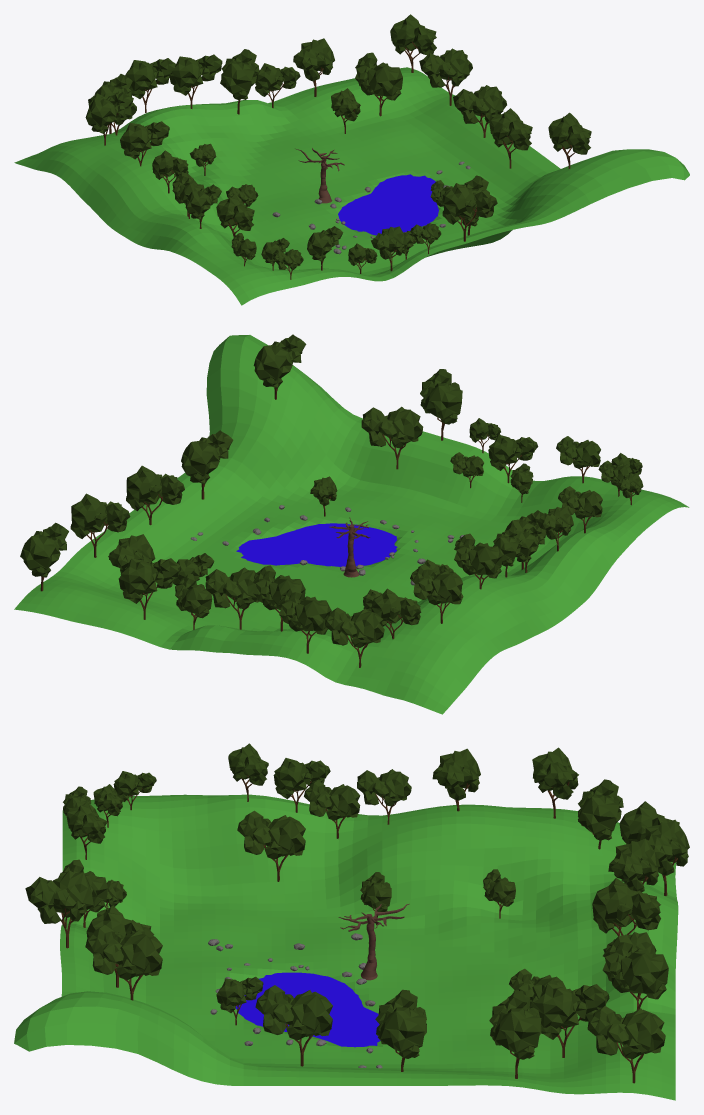
Rendered from forest.glb.
3 views of the same model, one above another, from view 1: azimuth 30°, elevation 25°; view 2: azimuth 150°, elevation 25°; view 3: azimuth 270°, elevation 25° (orthographic). The views are drawn at different scales.
Visible parts, largest first — view 1: Landscape, Water, Crown.027, Crown.020, Crown.023, Crown.024, Crown.030, Crown.028, Crown.025, Crown.031, Crown.022, Crown.021 (+17 smaller); view 2: Landscape, Water, Crown.019, Crown.026, Crown.024, Crown.023, Crown.032, Crown.022, Crown.021, Crown.031, Crown.020, Crown.025 (+16 smaller); view 3: Landscape, Water, Crown.022, Crown.021, Crown.025, Crown.026, Crown.027, Crown.020, Crown.028, Crown.024, Crown.023, Crown.005 (+20 smaller).
Boxes of the visible parts, x1=… form: Landscape: x1=14, y1=67, x2=689, y2=305; Water: x1=338, y1=174, x2=438, y2=235; Crown.027: x1=355, y1=52, x2=402, y2=100; Crown.020: x1=442, y1=183, x2=497, y2=224; Crown.023: x1=453, y1=85, x2=506, y2=123; Crown.024: x1=419, y1=48, x2=472, y2=87; Crown.030: x1=169, y1=54, x2=222, y2=95; Crown.028: x1=220, y1=49, x2=259, y2=99; Crown.025: x1=390, y1=14, x2=436, y2=54; Crown.031: x1=125, y1=58, x2=175, y2=98; Crown.022: x1=489, y1=108, x2=532, y2=150; Crown.021: x1=548, y1=112, x2=591, y2=154; Landscape: x1=14, y1=335, x2=689, y2=714; Water: x1=236, y1=523, x2=397, y2=566; Crown.019: x1=361, y1=406, x2=423, y2=448; Crown.026: x1=118, y1=558, x2=181, y2=603; Crown.024: x1=70, y1=493, x2=130, y2=538; Crown.023: x1=126, y1=465, x2=184, y2=511; Crown.032: x1=325, y1=607, x2=384, y2=647; Crown.022: x1=181, y1=430, x2=233, y2=484; Crown.021: x1=253, y1=334, x2=306, y2=388; Crown.031: x1=279, y1=586, x2=331, y2=634; Crown.020: x1=420, y1=369, x2=462, y2=424; Crown.025: x1=20, y1=522, x2=68, y2=577; Landscape: x1=14, y1=794, x2=678, y2=1100; Water: x1=235, y1=972, x2=380, y2=1047; Crown.022: x1=255, y1=985, x2=332, y2=1040; Crown.021: x1=85, y1=925, x2=162, y2=979; Crown.025: x1=587, y1=1006, x2=665, y2=1059; Crown.026: x1=602, y1=935, x2=668, y2=999; Crown.027: x1=532, y1=983, x2=609, y2=1039; Crown.020: x1=25, y1=870, x2=97, y2=923; Crown.028: x1=592, y1=878, x2=660, y2=933; Crown.024: x1=489, y1=990, x2=541, y2=1059; Crown.023: x1=375, y1=989, x2=426, y2=1058; Crown.005: x1=237, y1=810, x2=305, y2=859.
Bounding box in the file's own units: 226 × 62.02 × 221.
